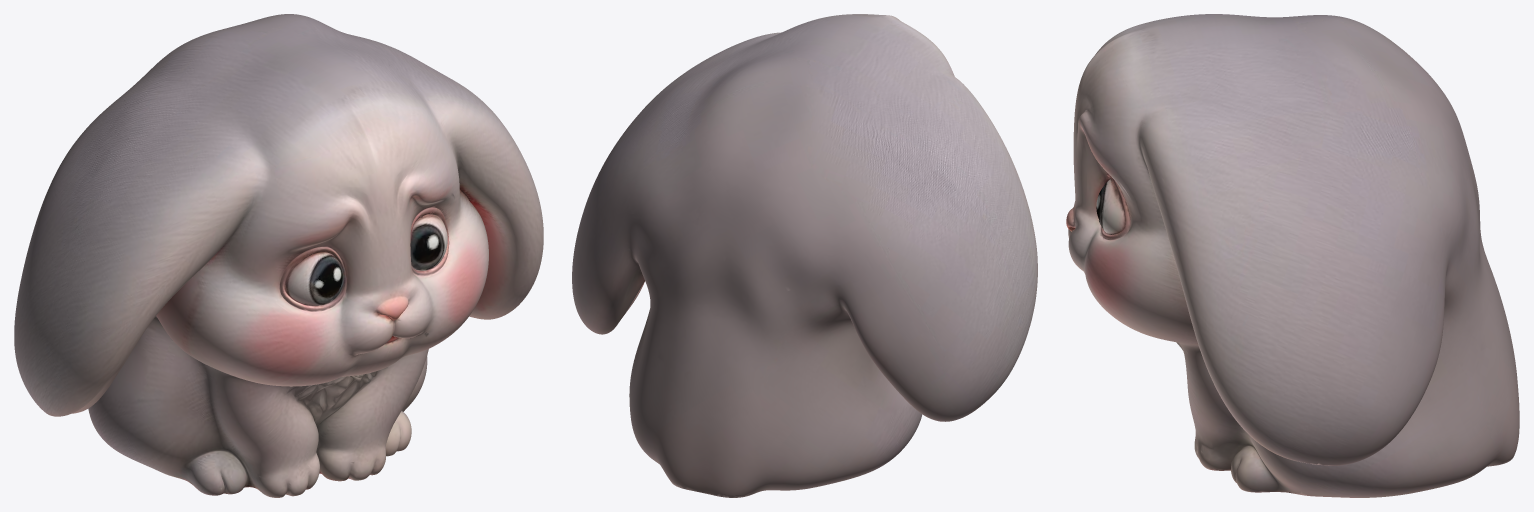
The model's file is bunny.glb.
3 renders of one model, left to right at view 1: azimuth 30°, elevation 25°; view 2: azimuth 150°, elevation 25°; view 3: azimuth 270°, elevation 25°, orthographic. The views are drawn at different scales.
Visible parts, largest first — view 1: node_0; view 2: node_0; view 3: node_0.
Part boxes in pixels (left/top/right/bottom): node_0: left=14, top=14, right=543, bottom=497; node_0: left=572, top=14, right=1037, bottom=497; node_0: left=1066, top=14, right=1519, bottom=497.
Bounding box in the file's own units: 1.03 × 0.8617 × 0.8518.
Materials: 1 (1 with a texture image).
